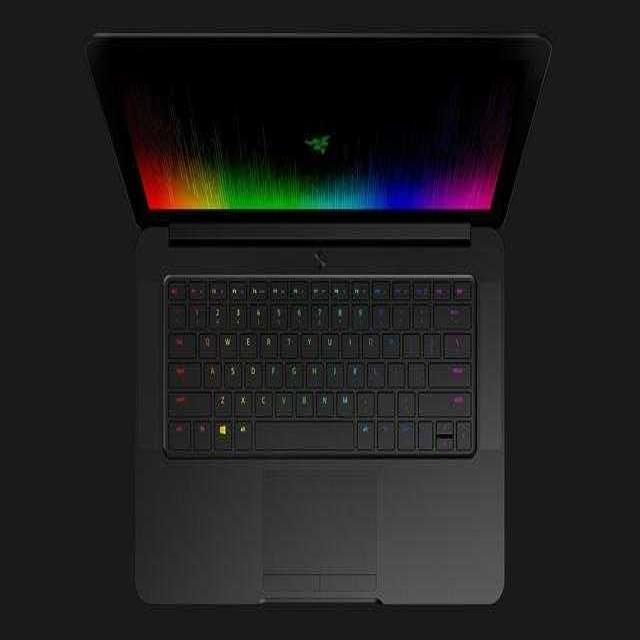laptop: (97, 32, 517, 614)
